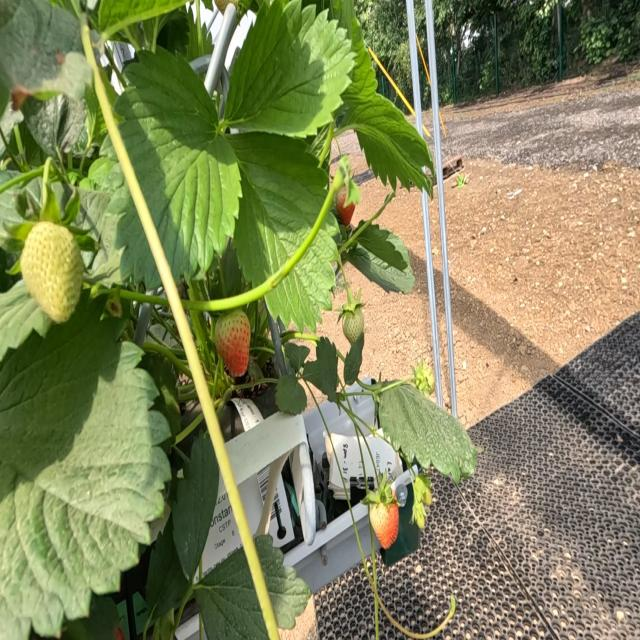Leaves: (0, 296, 170, 639), (114, 50, 240, 279), (225, 0, 354, 138), (229, 129, 327, 288), (341, 84, 431, 191), (379, 382, 475, 479), (1, 0, 80, 92), (172, 435, 219, 581), (106, 166, 160, 289), (196, 549, 268, 639), (257, 536, 311, 628), (345, 224, 415, 292), (146, 520, 189, 624), (0, 280, 51, 360), (93, 0, 187, 40), (303, 337, 339, 402), (276, 375, 307, 415), (0, 191, 22, 239), (285, 343, 310, 371)
Strawberries: (20, 223, 83, 321), (214, 311, 251, 376), (369, 502, 398, 547), (340, 306, 363, 343), (335, 186, 355, 224), (412, 362, 434, 395), (413, 502, 425, 529)
